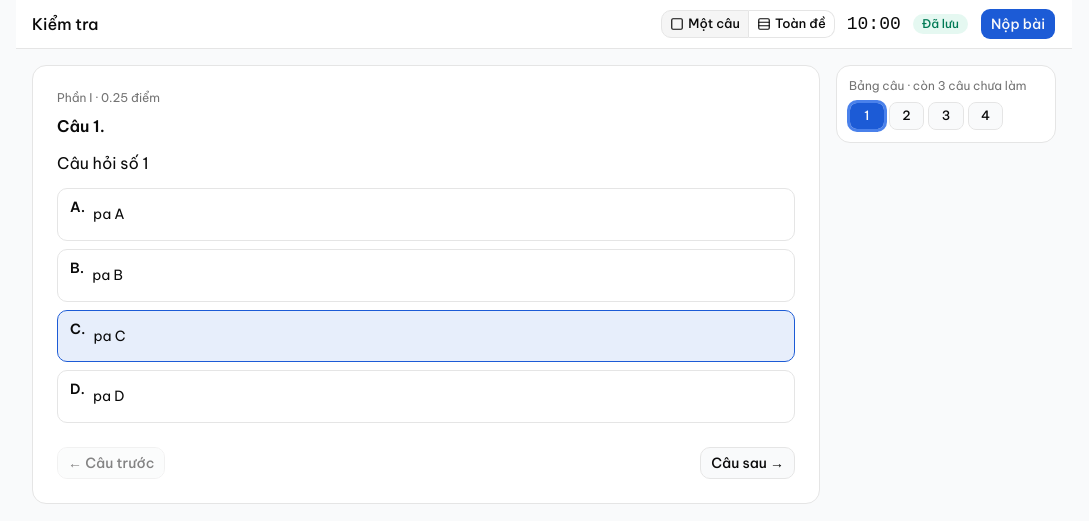
Test: exam runner › each reading mode carries an icon and a tooltip, and still says which mode it is (AC-05)
Expected: the 1st icon is shown, [670,17,684,31]
Expected: the 2nd icon is shown, [757,17,771,31]
Focus the radio button labelled "Toàn đề" at (792, 24), box [749,10,835,38]
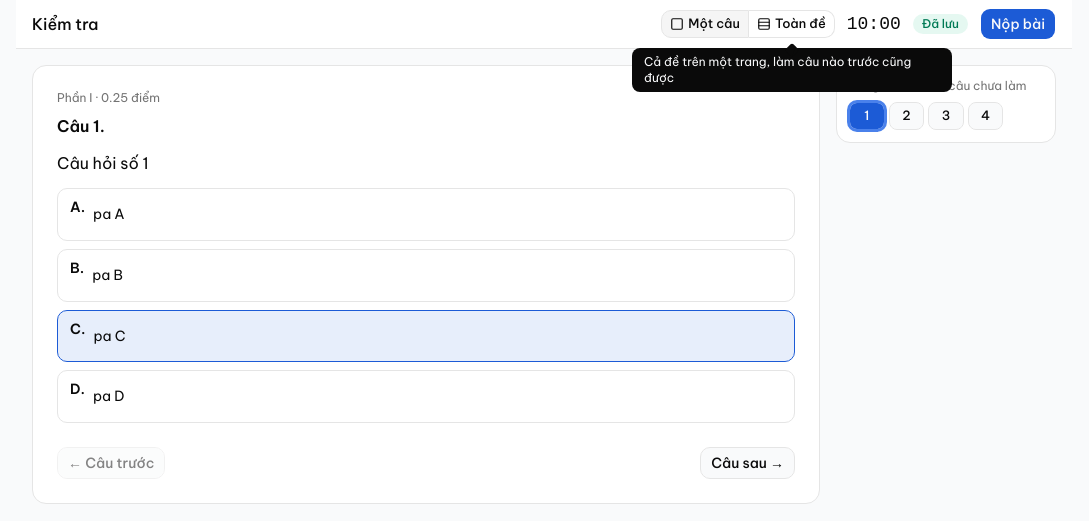
Result: the tooltip reads "Cả đề trên một trang, làm câu nào trước cũng được" at [644,54,911,85]
